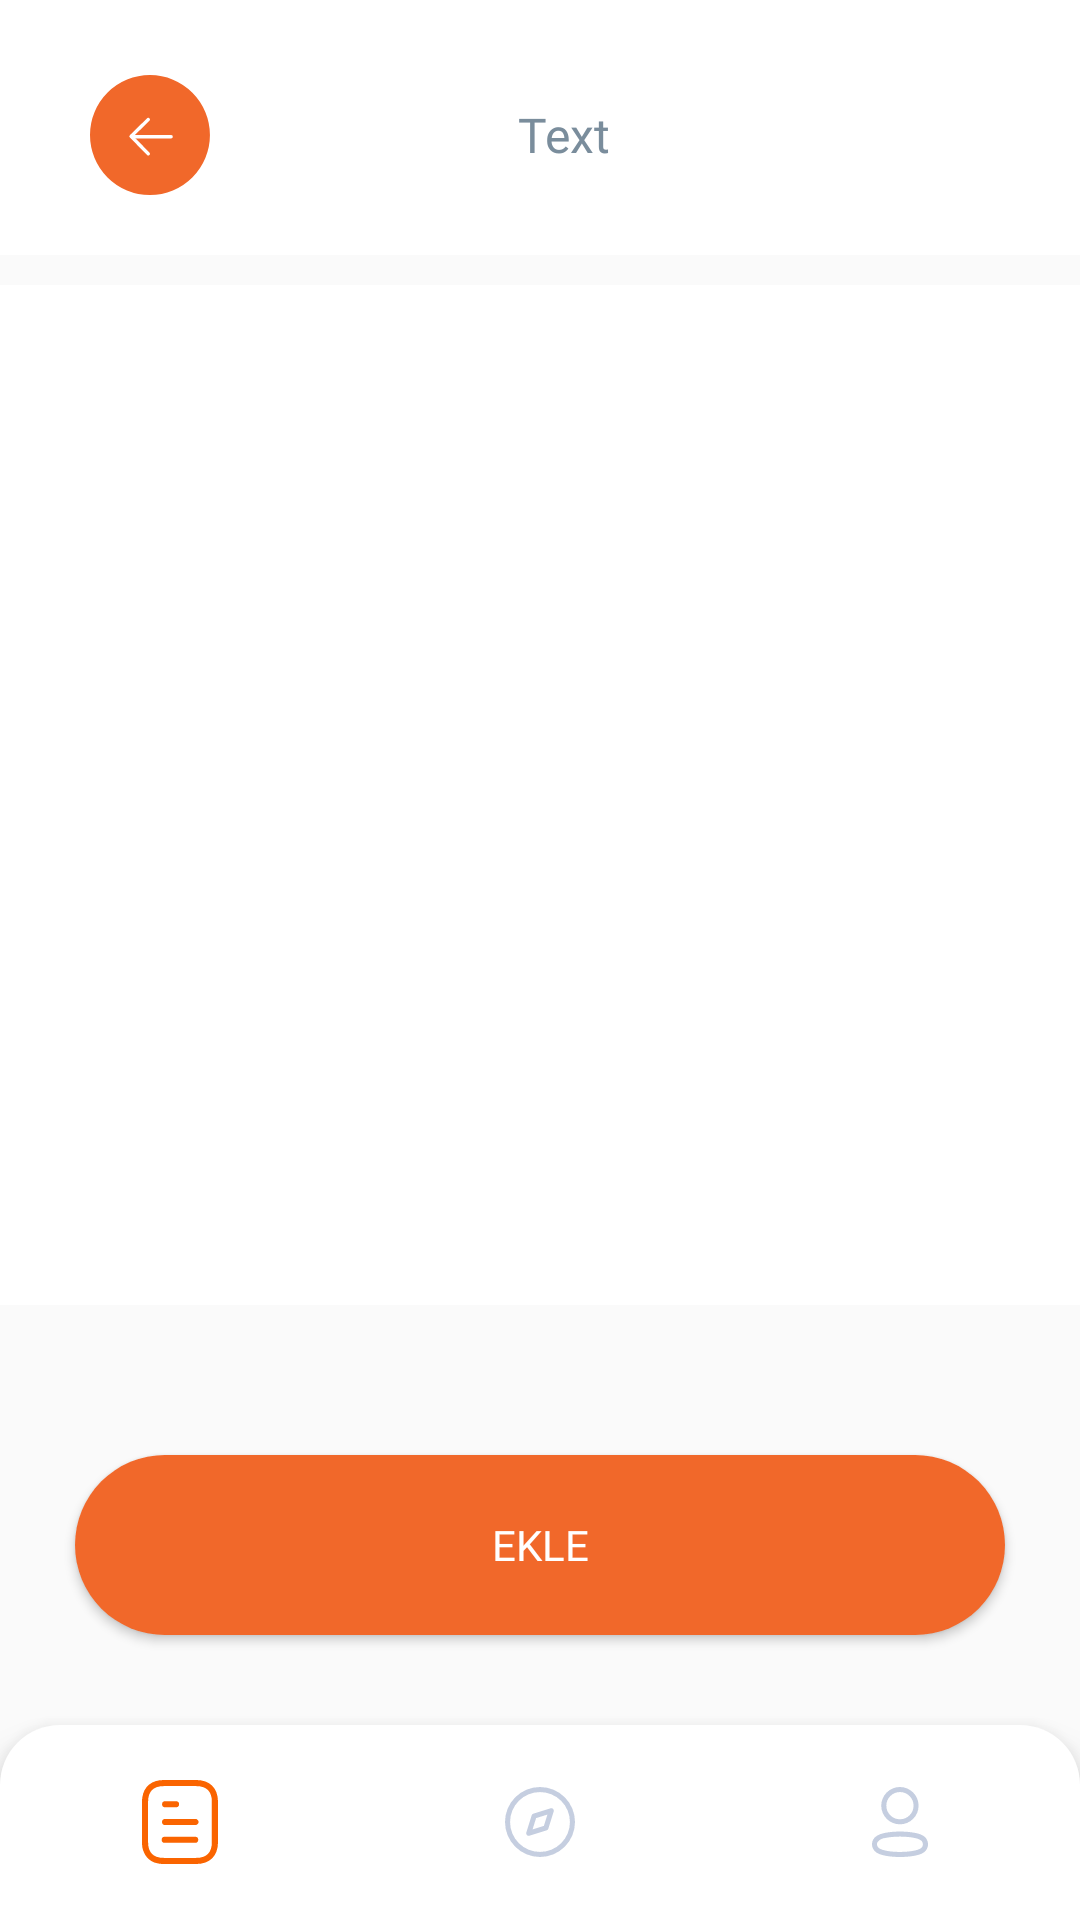

Point at icon controls on the screen. Image size 1080*1920, points as point (x, y).
back: point (150, 135)
